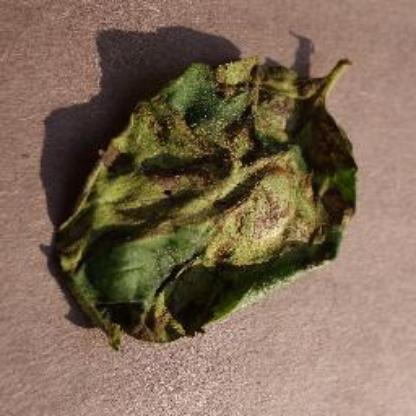Late-Blight: (51, 28, 385, 364)
